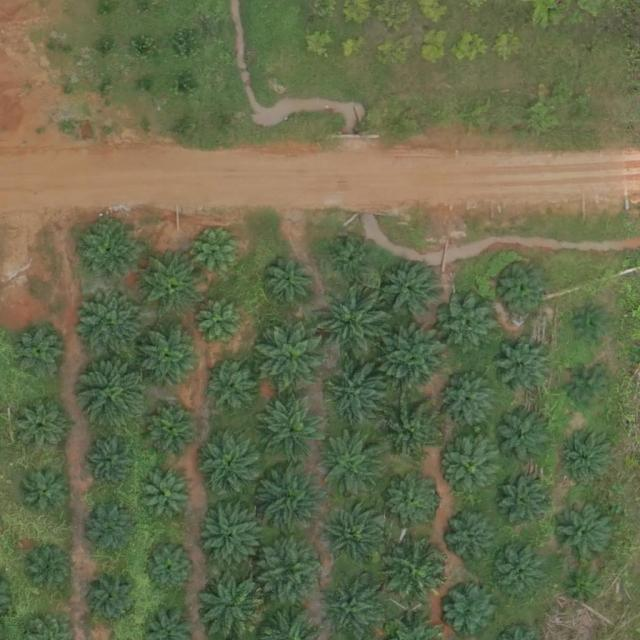Healthy: (319, 281, 397, 359), (82, 358, 153, 429), (79, 291, 149, 362), (258, 320, 328, 391), (261, 395, 332, 465), (257, 463, 328, 533), (257, 537, 327, 608), (79, 221, 142, 284), (140, 253, 203, 316), (140, 327, 203, 390), (322, 434, 385, 497), (322, 509, 385, 572), (387, 540, 450, 603), (329, 362, 391, 425), (384, 328, 446, 391), (379, 401, 441, 464), (201, 432, 263, 494), (203, 503, 265, 565), (263, 255, 318, 311), (445, 439, 500, 495), (384, 264, 439, 319), (385, 474, 440, 529), (442, 376, 497, 431), (445, 509, 500, 564), (444, 584, 499, 639), (497, 340, 552, 395), (492, 548, 547, 603), (559, 431, 614, 486), (559, 506, 614, 561), (441, 298, 495, 353), (496, 411, 550, 466), (496, 474, 550, 529), (16, 329, 63, 377), (91, 437, 138, 485), (90, 508, 137, 556), (212, 366, 259, 414), (149, 408, 196, 455), (146, 473, 193, 520)
Small: (193, 226, 248, 281), (145, 543, 200, 598), (88, 571, 143, 626), (19, 404, 66, 452), (501, 264, 548, 312), (197, 299, 244, 346), (23, 547, 70, 594), (24, 467, 71, 514), (570, 368, 609, 407), (334, 241, 373, 280), (568, 574, 599, 606), (576, 312, 607, 343)
